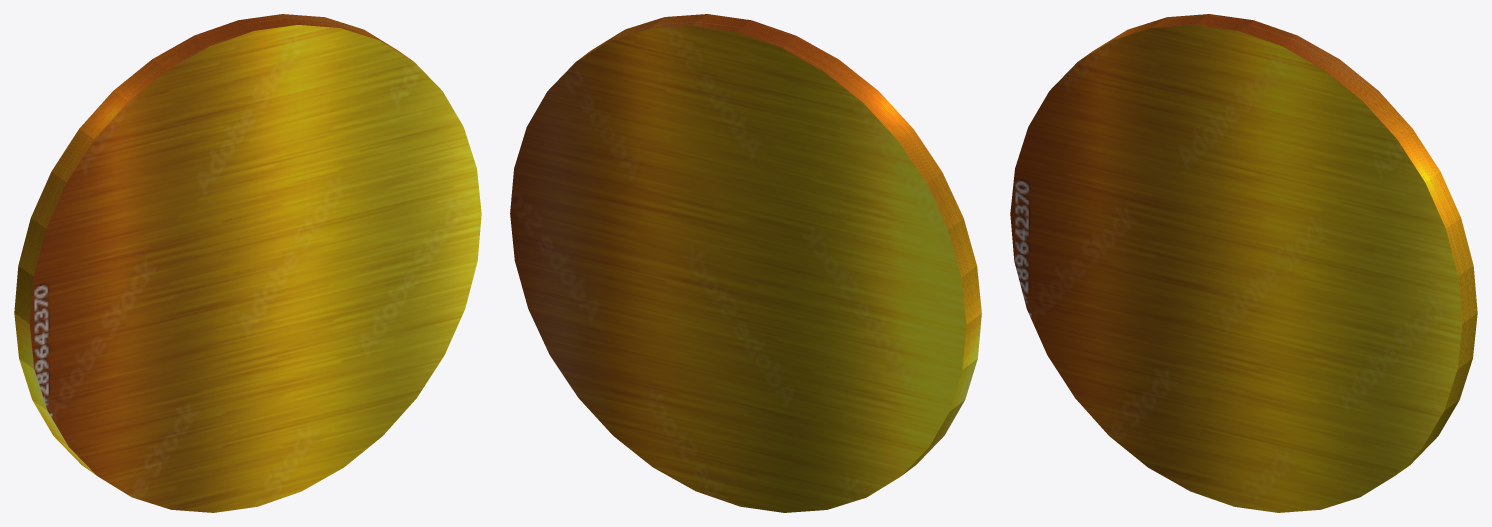
The model's file is moneda.obj.
The picture shows the model from 3 angles, left to right: view 1: azimuth 30°, elevation 25°; view 2: azimuth 150°, elevation 25°; view 3: azimuth 330°, elevation 25°; orthographic projection.
Parts seen in each view (by area): view 1: Cylinder; view 2: Cylinder; view 3: Cylinder.
Part boxes in pixels (x1,y1,x2,y2): Cylinder: [14, 14, 481, 512]; Cylinder: [510, 14, 981, 512]; Cylinder: [1010, 14, 1477, 512].
Size of the model in its own units: 2 by 2 by 0.1474.
Materials: 1 (1 with a texture image).
